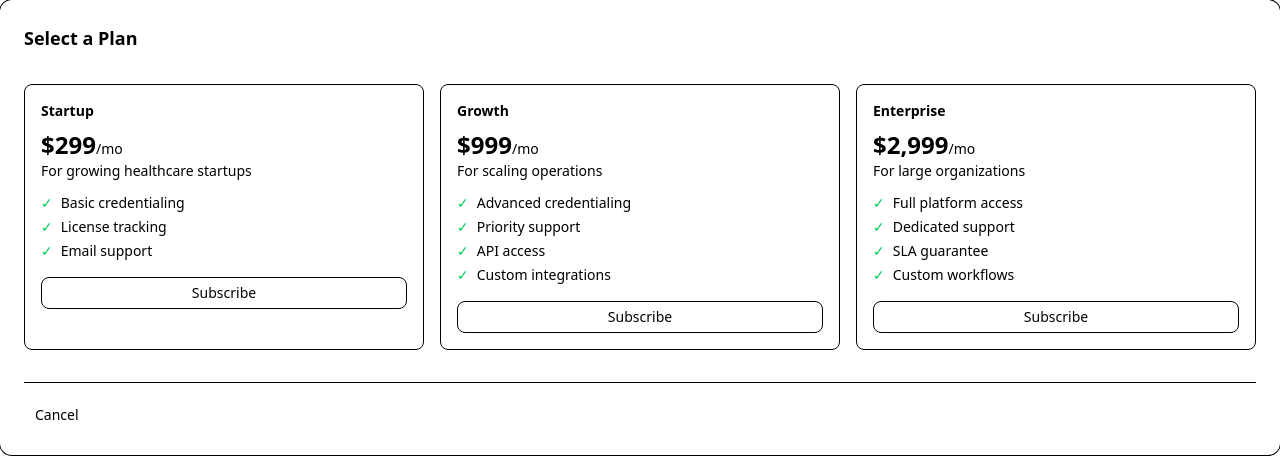
Test: <PlanSelector /> › disables buttons while loading
The width and height of the screenshot is (1280, 473).
Step 1. Click the text "Growth" → [483, 110], box [457,101,509,120]
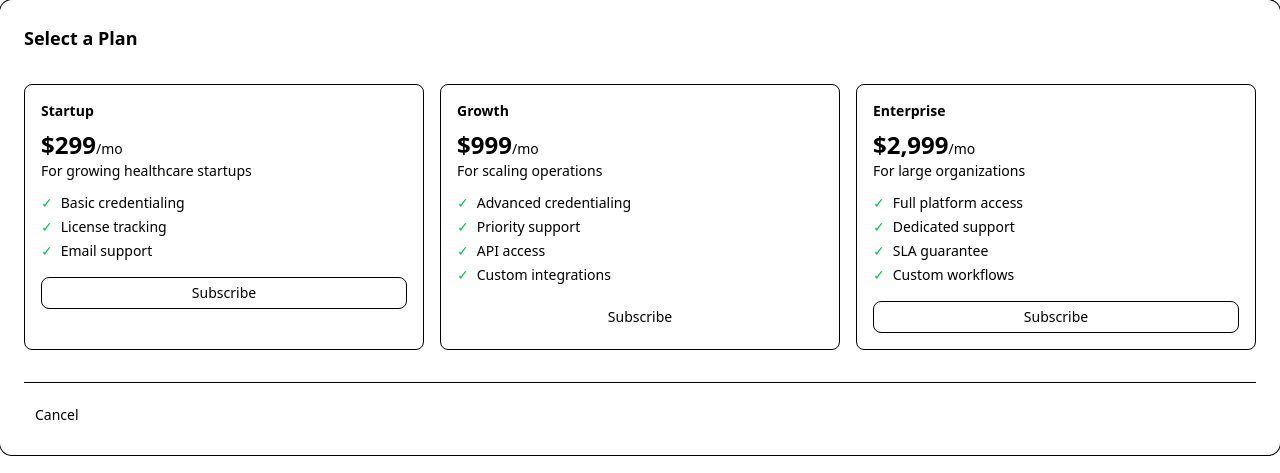
Step 2. Click the button "Subscribe" below "Custom integrations" → [640, 317], box [457,301,823,333]
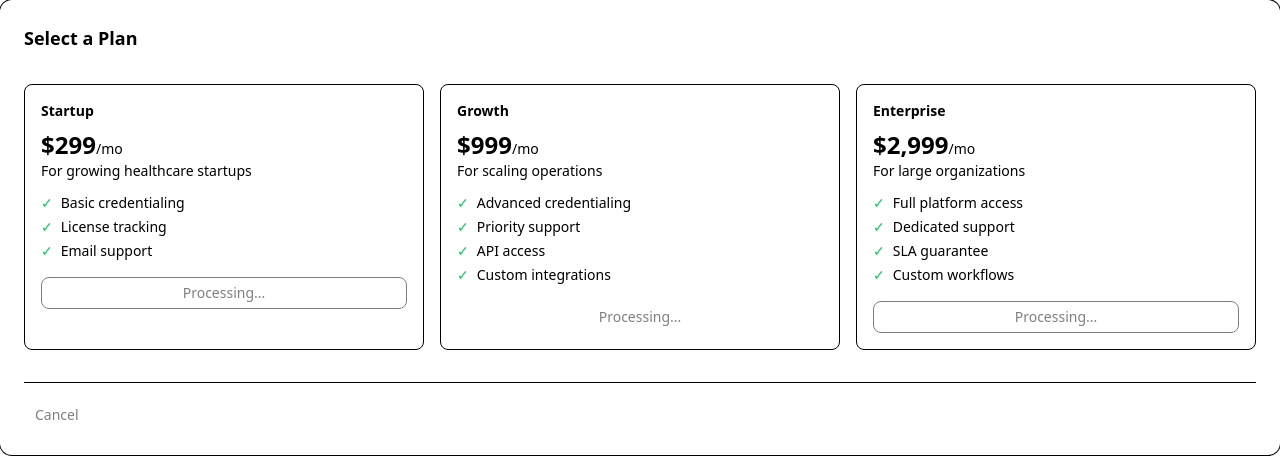
Expected: the button "Cancel" is disabled, [24,399,90,431]
Expected: the button "Subscribe" below "Custom integrations" is disabled, [457,301,823,333]
